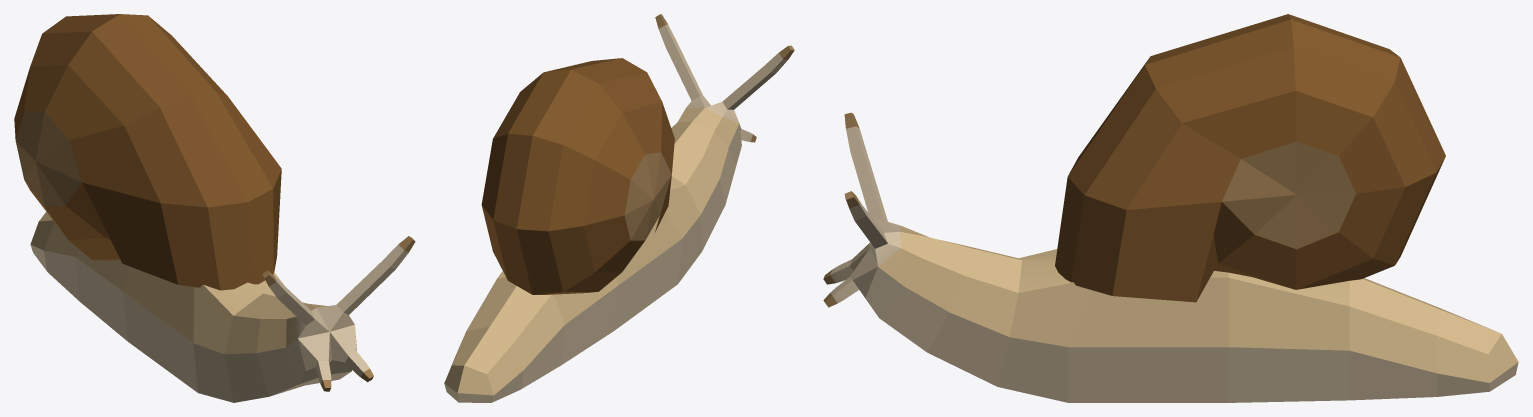
Rendered from decd423e-2f7e-4b48-930a-b6565e44a3a7.glb.
The picture shows the model from 3 angles, left to right: view 1: azimuth 30°, elevation 25°; view 2: azimuth 150°, elevation 25°; view 3: azimuth 270°, elevation 25°; orthographic projection. The views are drawn at different scales.
Visible parts, largest first — view 1: Geo_Snail; view 2: Geo_Snail; view 3: Geo_Snail.
Part boxes in pixels (<box>): Geo_Snail: <box>14,14,415,402</box>; Geo_Snail: <box>444,14,794,402</box>; Geo_Snail: <box>823,14,1518,402</box>.
Bounding box in the file's own units: 2.51 × 3.86 × 7.04.
1 material, 1 textured.
